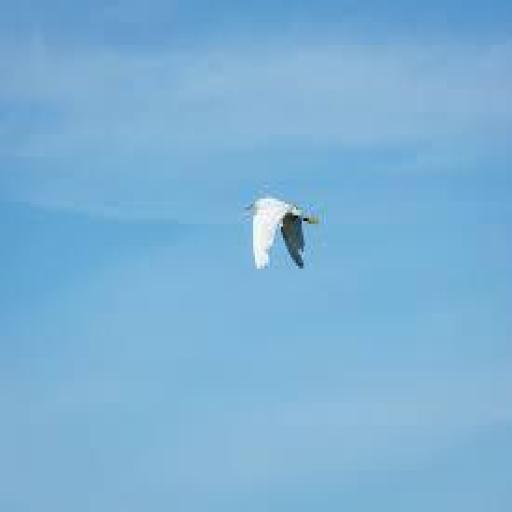birds: (241, 197, 320, 270)
